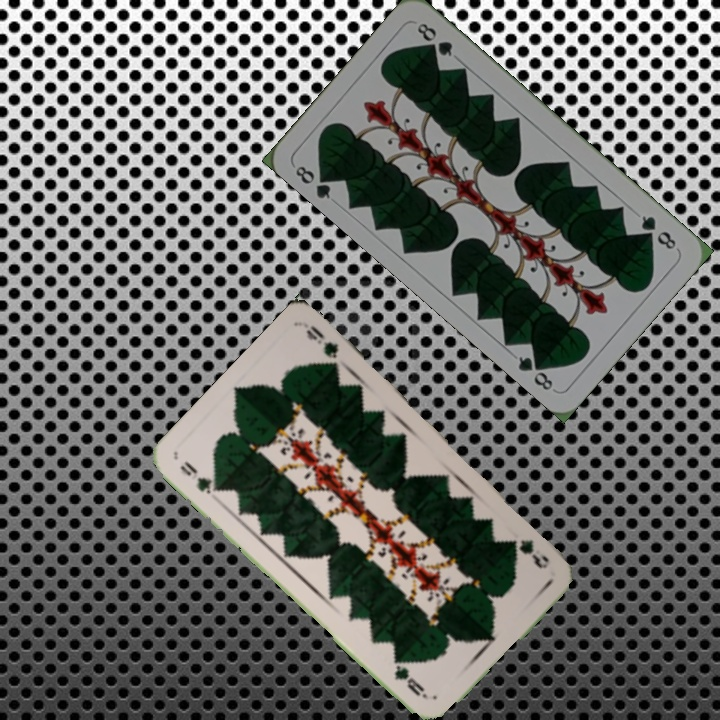G8: (291, 161, 337, 202), (636, 211, 679, 253)
G9: (176, 456, 225, 497), (516, 535, 552, 572)
